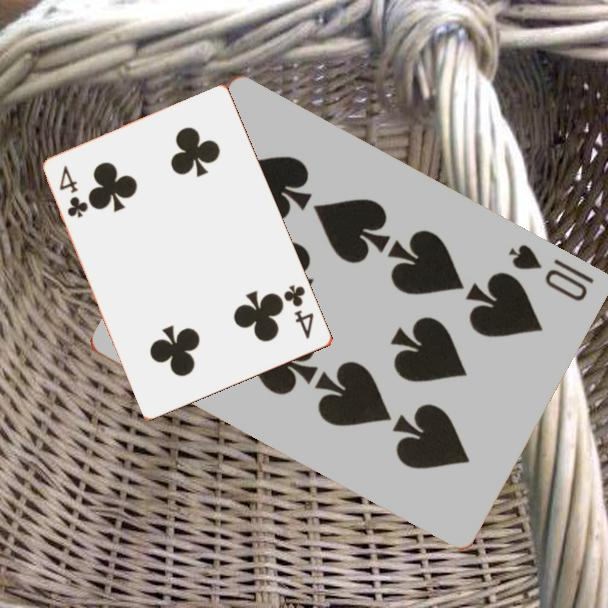c04: (280, 281, 317, 342), (56, 162, 91, 221)
s10: (504, 241, 596, 305)
